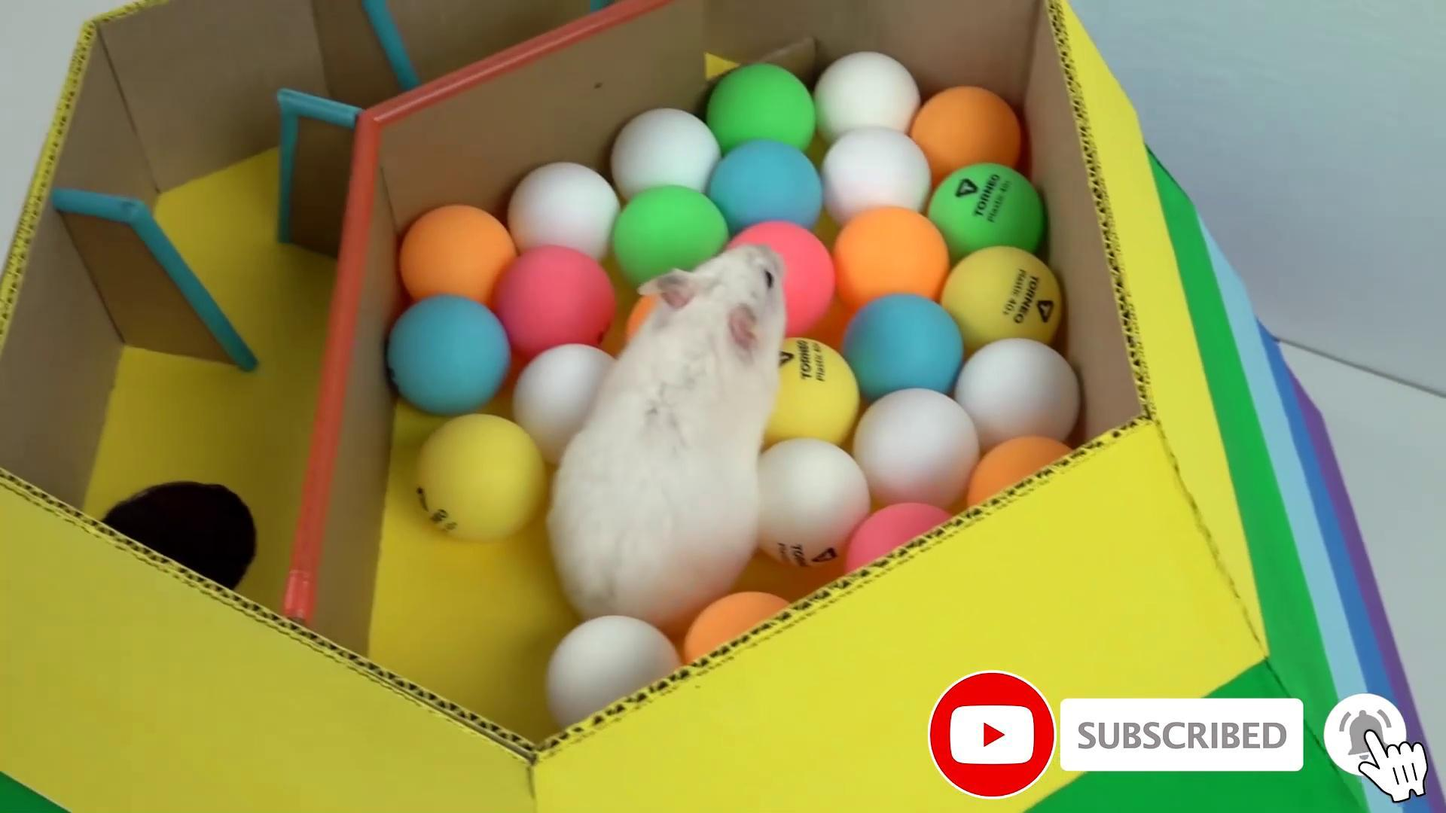rat: (545, 242, 789, 621)
